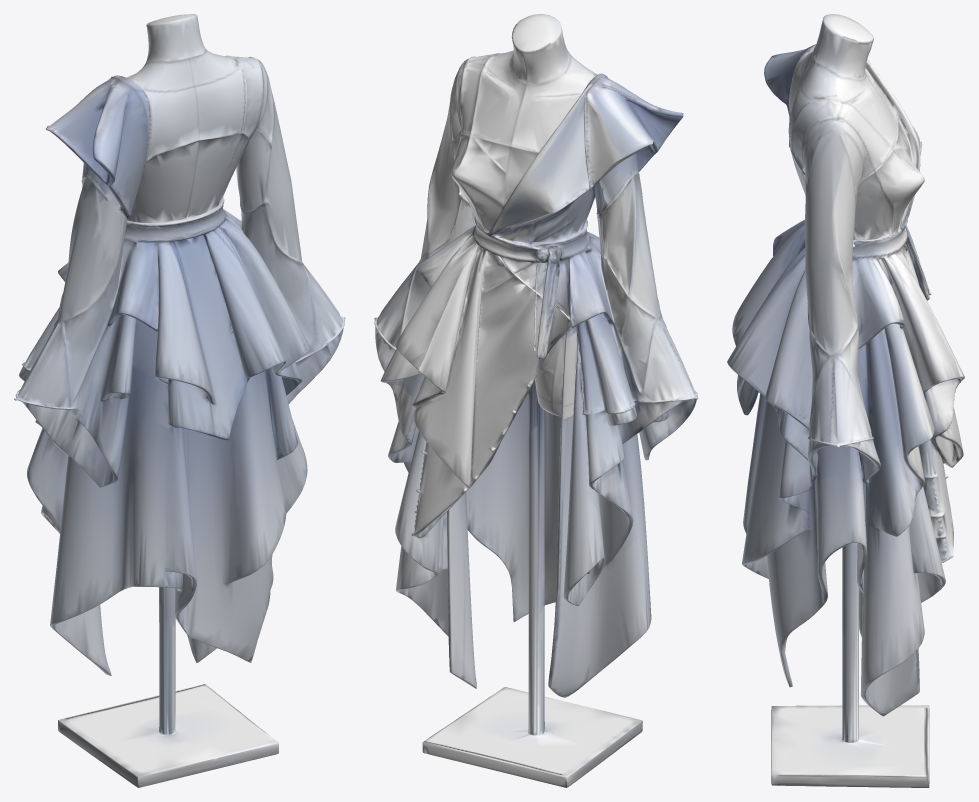
Rendered from SM_F_Mannequin_02.glb.
The picture shows the model from 3 angles, left to right: view 1: azimuth 30°, elevation 25°; view 2: azimuth 150°, elevation 25°; view 3: azimuth 270°, elevation 25°; orthographic projection.
Visible parts, largest first — view 1: SM_F_Mannequin_02; view 2: SM_F_Mannequin_02; view 3: SM_F_Mannequin_02.
Part boxes in pixels (left/top/right/bottom): SM_F_Mannequin_02: left=14, top=14, right=345, bottom=787; SM_F_Mannequin_02: left=374, top=14, right=698, bottom=787; SM_F_Mannequin_02: left=727, top=14, right=964, bottom=787.
Size of the model in its own units: 0.9219 by 1.95 by 0.5739.
1 material, 1 textured.
